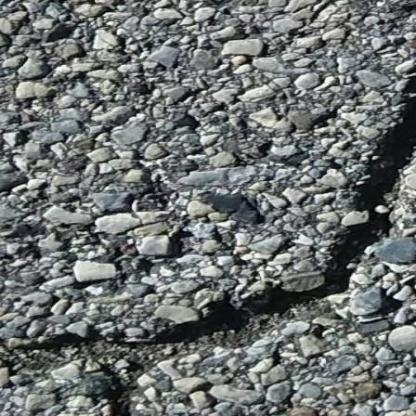Cracks: (116, 53, 416, 416), (0, 289, 188, 416)
